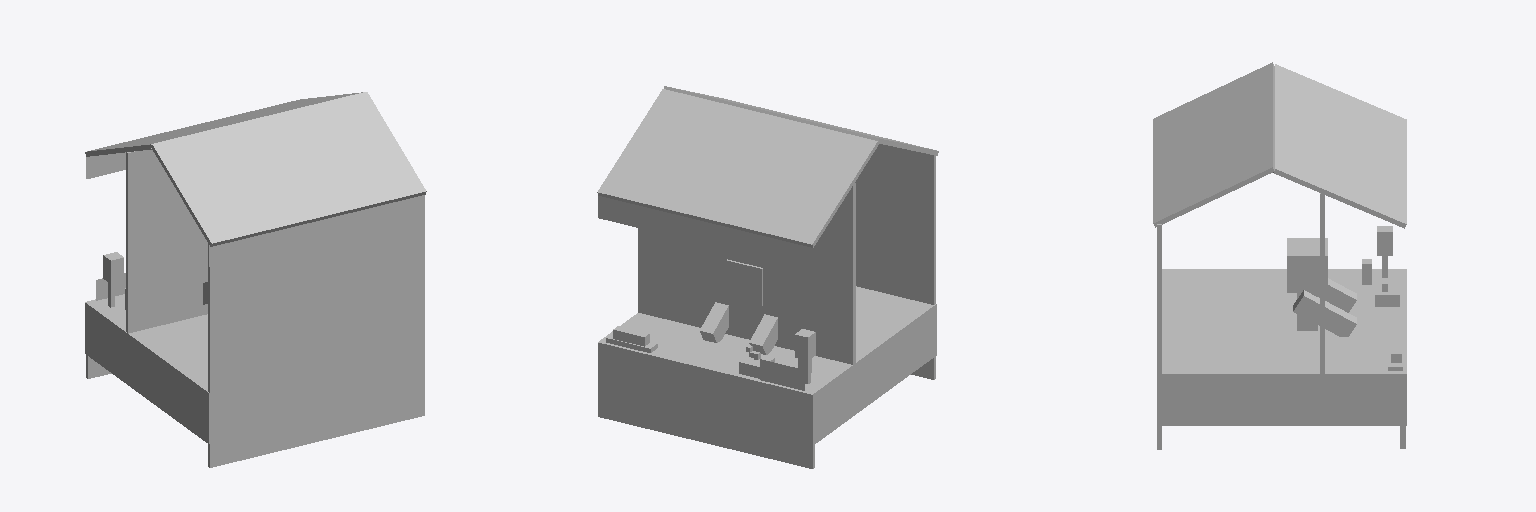
Rendered from barraca_praia_pipoca.obj.
3 views of the same model, side by side, from view 1: azimuth 30°, elevation 25°; view 2: azimuth 150°, elevation 25°; view 3: azimuth 270°, elevation 25° (orthographic).
Parts seen in each view (by area): view 1: pe, teto1, corpo, teto1bb; view 2: pe, teto1, corpo, teto1bb, head, divisoria, armR, arml; view 3: corpo, teto1, pe, head, armR, arml, panela.
Boxes of the visible parts, x1=… form: pe: x1=86, y1=150, x2=424, y2=467; teto1: x1=85, y1=92, x2=426, y2=246; corpo: x1=85, y1=294, x2=209, y2=443; teto1bb: x1=86, y1=152, x2=209, y2=266; pe: x1=598, y1=144, x2=935, y2=468; teto1: x1=597, y1=86, x2=938, y2=247; corpo: x1=598, y1=286, x2=936, y2=445; teto1bb: x1=598, y1=196, x2=812, y2=270; head: x1=726, y1=259, x2=762, y2=305; divisoria: x1=760, y1=359, x2=804, y2=390; armR: x1=700, y1=302, x2=728, y2=342; arml: x1=749, y1=314, x2=777, y2=354; corpo: x1=1162, y1=269, x2=1406, y2=425; teto1: x1=1153, y1=62, x2=1406, y2=228; pe: x1=1157, y1=193, x2=1405, y2=449; head: x1=1287, y1=238, x2=1327, y2=292; armR: x1=1293, y1=290, x2=1356, y2=336; arml: x1=1318, y1=278, x2=1356, y2=312; panela: x1=1375, y1=284, x2=1399, y2=306.
Bounding box in the file's own units: 3.01 × 3.76 × 3.06.